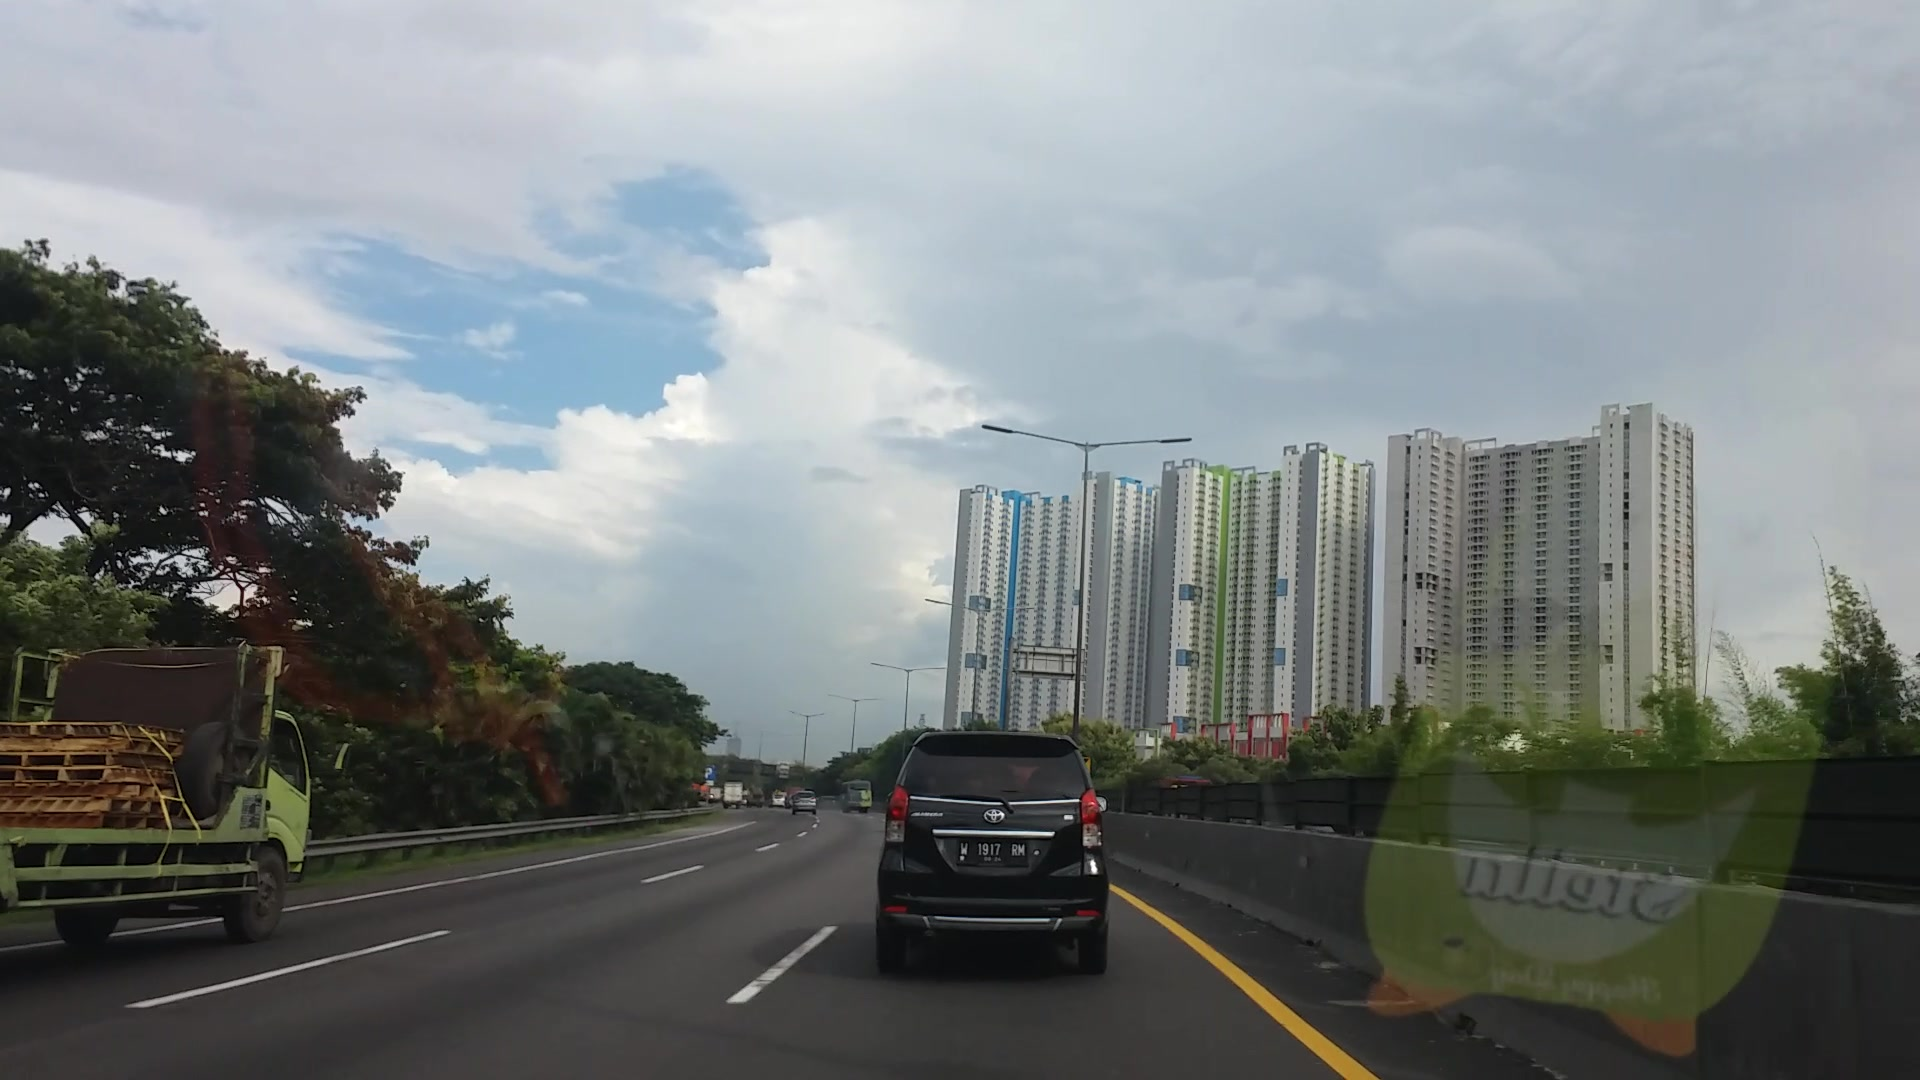plate_positive: (956, 839, 1029, 865)
